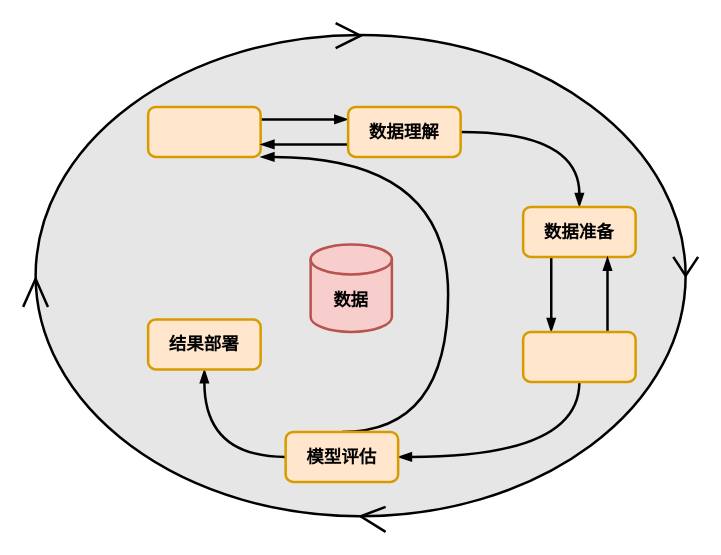
Image size: 721x555. Some labels were removed from this diagram. The shapes that lost their labels are listed below. From the top down, each one's centre as x and y in pixels, then its label:
At [203,131]: "业务理解".
At [578,356]: "建立模型".
